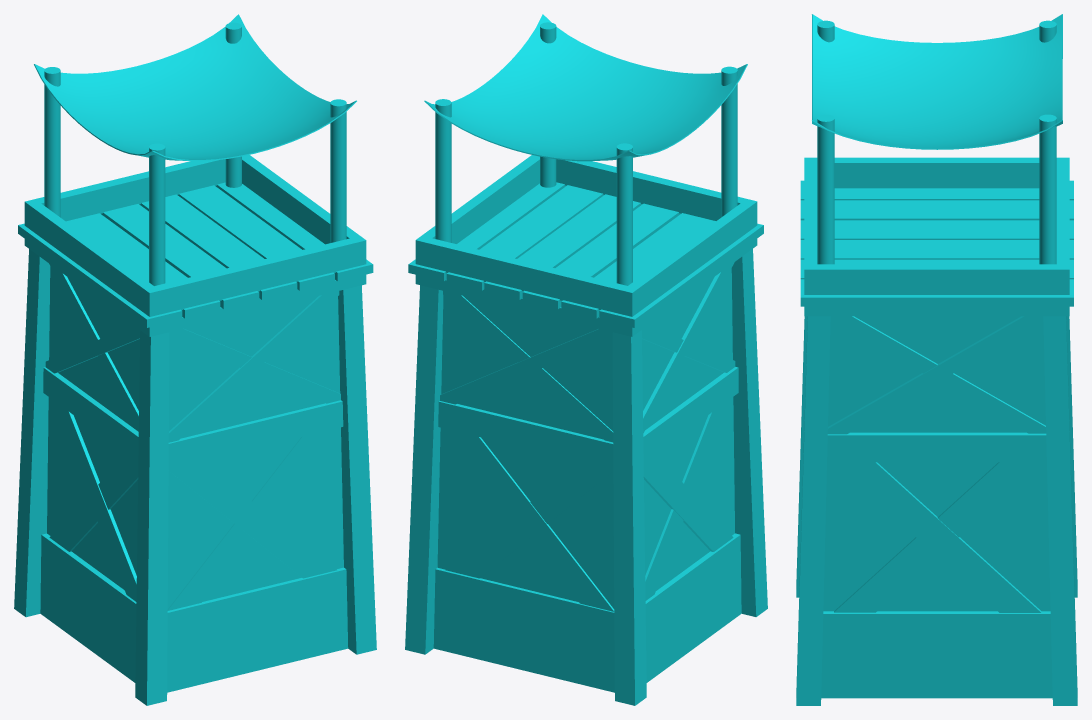
The model's file is Tour3 lvl3.fbx.
3 views of the same model, side by side, from view 1: azimuth 30°, elevation 25°; view 2: azimuth 150°, elevation 25°; view 3: azimuth 270°, elevation 25° (orthographic). The views are drawn at different scales.
Parts seen in each view (by area): view 1: Cube, Plane, Cube.042, Cube.062, Cube.038, Cube.039, Cube.041, Cube.046, Cube.050, Cube.053, Cube.036, Cube.034 (+16 smaller); view 2: Cube, Plane, Cube.042, Cube.062, Cube.041, Cube.040, Cube.038, Cube.045, Cube.048, Cube.052, Cube.036, Cube.034 (+16 smaller); view 3: Cube, Plane, Cube.042, Cube.062, Cube.039, Cube.040, Cube.049, Cube.047, Cube.054, Cube.002, Cube.034, Cube.035 (+10 smaller).
Part boxes in pixels (x1,y1,x2,y2): Cube: [47, 266, 343, 608]; Plane: [34, 14, 356, 161]; Cube.042: [40, 533, 348, 692]; Cube.062: [24, 155, 366, 316]; Cube.038: [135, 330, 169, 705]; Cube.039: [338, 285, 376, 654]; Cube.041: [14, 249, 50, 617]; Cube.046: [168, 461, 336, 578]; Cube.050: [168, 400, 343, 469]; Cube.053: [167, 428, 336, 610]; Cube.036: [177, 185, 334, 290]; Cube.034: [139, 194, 297, 299]; Cube: [437, 268, 734, 608]; Plane: [424, 14, 747, 161]; Cube.042: [433, 533, 741, 692]; Cube.062: [415, 155, 757, 316]; Cube.041: [612, 330, 646, 705]; Cube.040: [405, 285, 443, 654]; Cube.038: [731, 249, 767, 616]; Cube.045: [444, 428, 614, 611]; Cube.048: [438, 401, 613, 469]; Cube.052: [445, 461, 613, 578]; Cube.036: [446, 185, 603, 290]; Cube.034: [484, 194, 642, 299]; Cube: [823, 316, 1050, 611]; Plane: [812, 14, 1062, 149]; Cube.042: [821, 611, 1052, 698]; Cube.062: [804, 157, 1069, 294]; Cube.039: [796, 316, 830, 705]; Cube.040: [1043, 316, 1077, 705]; Cube.049: [827, 432, 1046, 462]; Cube.047: [834, 462, 1041, 612]; Cube.054: [834, 462, 1041, 612]; Cube.002: [800, 200, 1073, 220]; Cube.034: [800, 240, 1073, 259]; Cube.035: [800, 220, 1073, 239].
Size of the model in its own units: 88.11 by 200 by 88.11.
